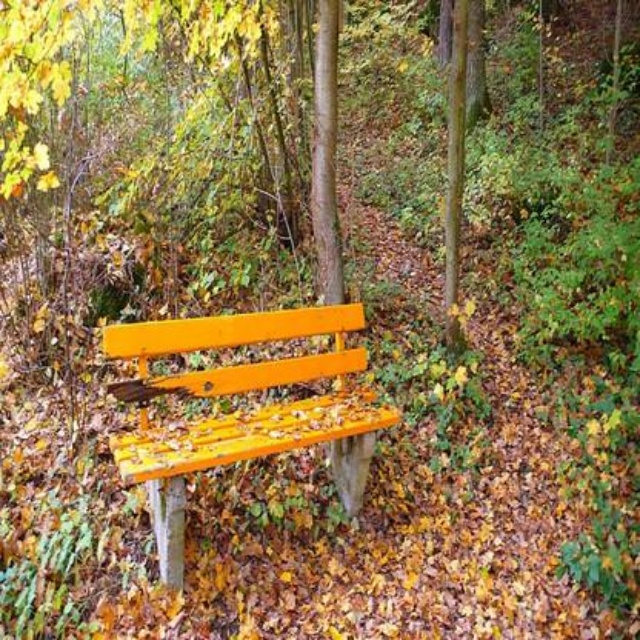obstacle: (86, 305, 402, 569)
